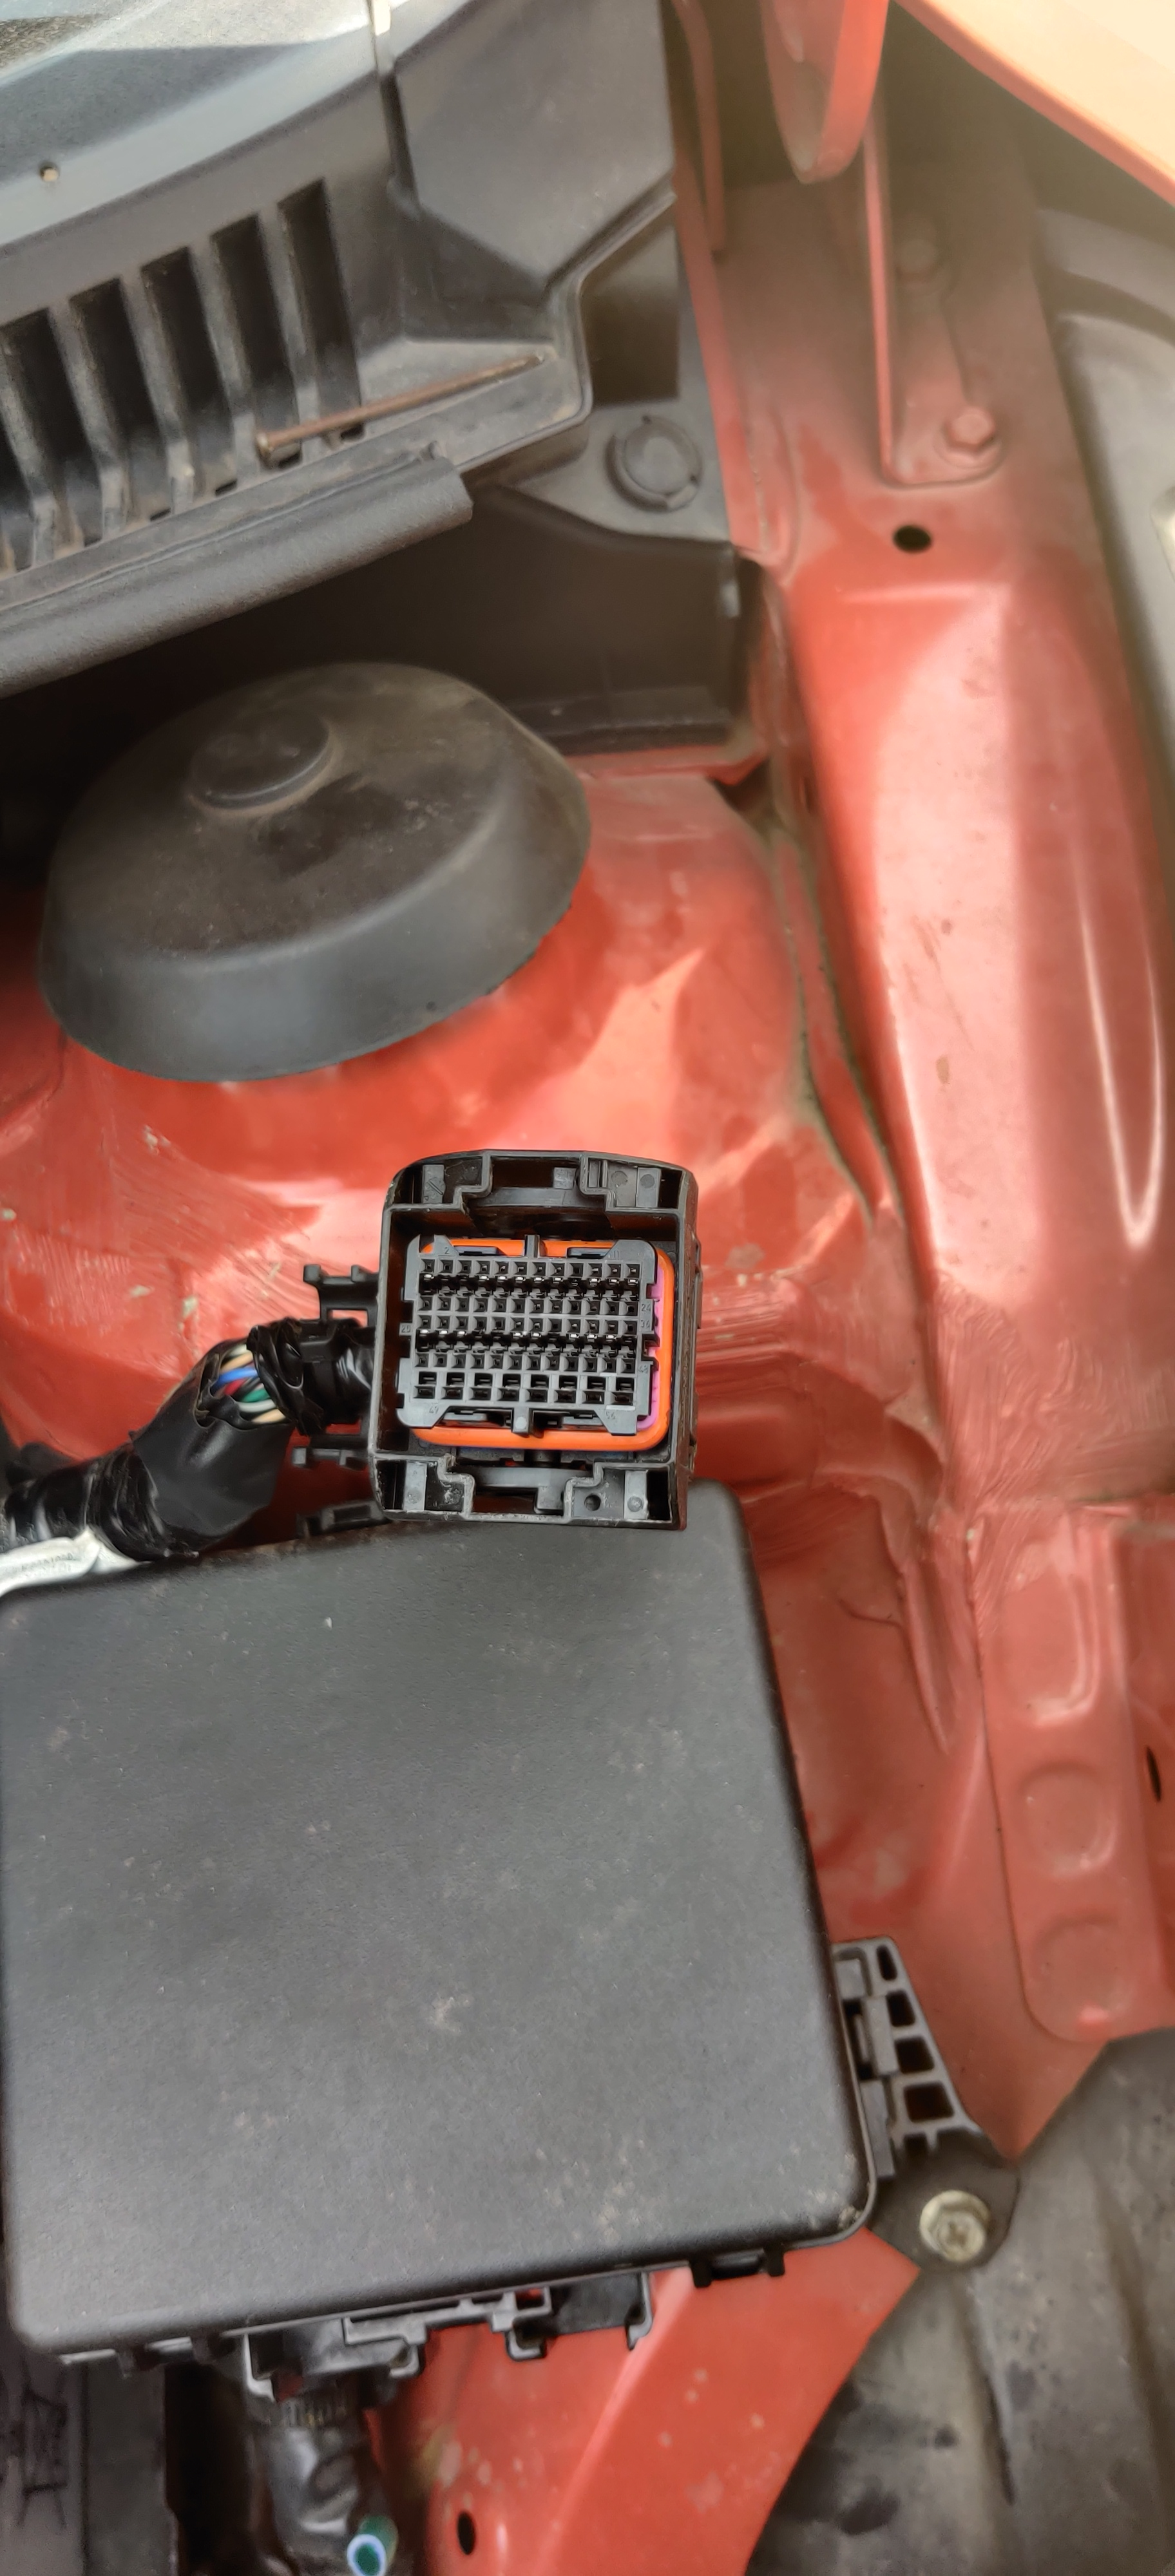connector: (330, 1097, 751, 1585)
